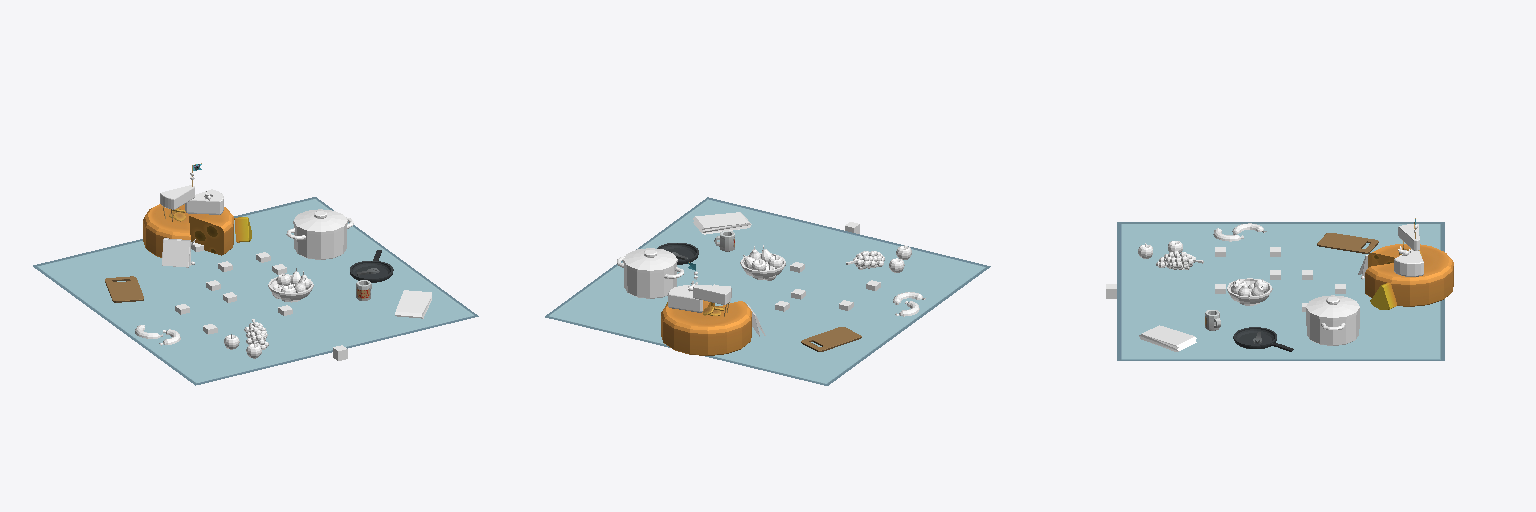
The picture shows the model from 3 angles: view 1: azimuth 30°, elevation 25°; view 2: azimuth 150°, elevation 25°; view 3: azimuth 270°, elevation 25°; orthographic projection.
Visible parts, largest first — view 1: Plane, Cheese_Roll, Pot, PotLid, Towel, CuttingBoard, Cheese_Slice_Big, PanBas, Cheese_Slice1, Cheese_Slice_Top; view 2: Plane, Cheese_Roll, Pot, PotLid, Towel, CuttingBoard, Cheese_Slice_Big, Cheese_Slice_Top; view 3: Plane, Cheese_Roll, Pot, PotLid, Towel, CuttingBoard, PanBas, Cheese_Slice_Big, Grapes.
Boxes of the visible parts, x1=… form: Plane: x1=33, y1=197, x2=478, y2=385; Cheese_Roll: x1=143, y1=204, x2=233, y2=257; Pot: x1=286, y1=217, x2=353, y2=259; PotLid: x1=293, y1=209, x2=347, y2=234; Towel: x1=395, y1=290, x2=431, y2=318; CuttingBoard: x1=105, y1=276, x2=143, y2=302; Cheese_Slice_Big: x1=185, y1=189, x2=223, y2=214; PanBas: x1=350, y1=250, x2=393, y2=282; Cheese_Slice1: x1=162, y1=239, x2=190, y2=267; Cheese_Slice_Top: x1=160, y1=185, x2=194, y2=209; Plane: x1=545, y1=197, x2=990, y2=385; Cheese_Roll: x1=661, y1=300, x2=751, y2=355; Pot: x1=617, y1=256, x2=683, y2=298; PotLid: x1=623, y1=248, x2=677, y2=273; Towel: x1=693, y1=212, x2=751, y2=234; CuttingBoard: x1=801, y1=327, x2=861, y2=351; Cheese_Slice_Big: x1=668, y1=285, x2=702, y2=312; Cheese_Slice_Top: x1=693, y1=285, x2=731, y2=304; Plane: x1=1117, y1=222, x2=1444, y2=360; Cheese_Roll: x1=1365, y1=244, x2=1453, y2=306; Pot: x1=1306, y1=310, x2=1359, y2=345; PotLid: x1=1306, y1=295, x2=1359, y2=320; Towel: x1=1139, y1=325, x2=1196, y2=351; CuttingBoard: x1=1317, y1=233, x2=1378, y2=253; PanBas: x1=1233, y1=327, x2=1293, y2=351; Cheese_Slice_Big: x1=1394, y1=249, x2=1423, y2=276; Grapes: x1=1156, y1=251, x2=1203, y2=269.
Size of the model in its own units: 30 by 8.17 by 31.88.
Materials: 25 (10 with a texture image).